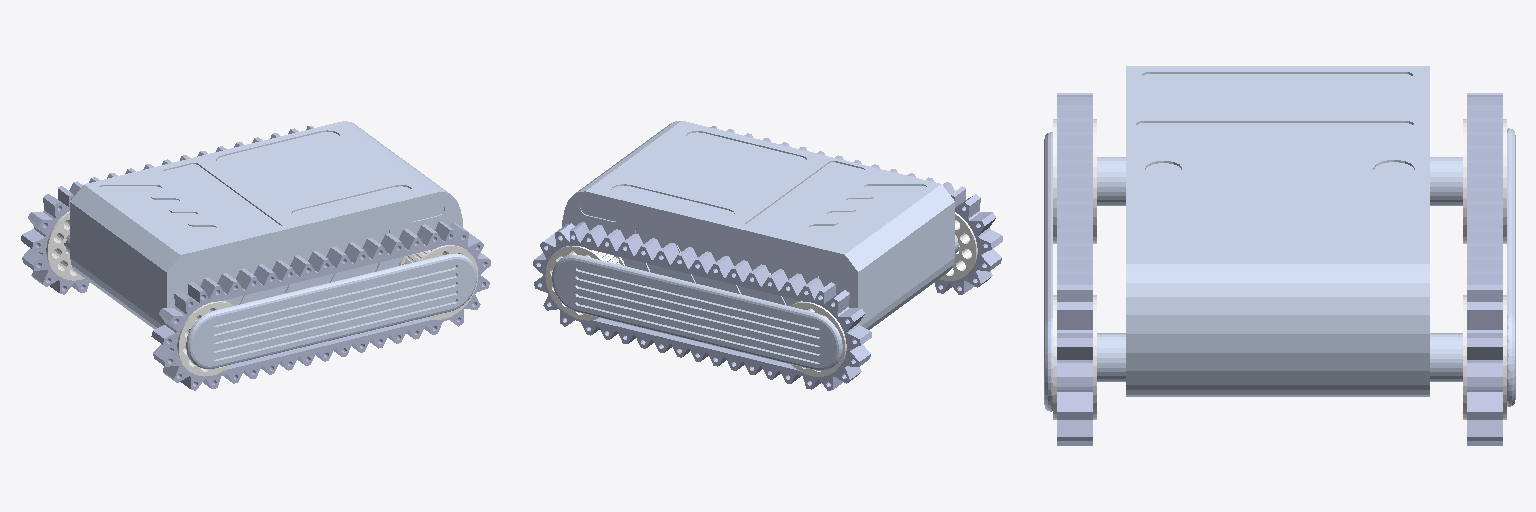
robot.urdf — test_crawler:
<?xml version="1.0" encoding="utf-8"?>
<!-- This URDF was automatically created by SolidWorks to URDF Exporter! Originally created by [author] ([email redacted]) 
     Commit Version: 1.5.1-0-g916b5db  Build Version: 1.5.7152.31018
     For more information, please see http://wiki.ros.org/sw_urdf_exporter -->
<robot
  name="test_crawler">
  <link
    name="base_link">
    <inertial>
      <origin
        xyz="-0.281319738122083 -0.0199999536533712 -0.106159055842674"
        rpy="0 0 0" />
      <mass
        value="12.7192621971354" />
      <inertia
        ixx="0.260102799764317"
        ixy="-0.000909028802490265"
        ixz="-0.0119468599271296"
        iyy="0.57529521161862"
        iyz="0.00212150730981038"
        izz="0.710489639266212" />
    </inertial>
    <visual>
      <origin
        xyz="0 0 0"
        rpy="0 0 0" />
      <geometry>
        <mesh
          filename="package://test_crawler/meshes/base_link.STL" />
      </geometry>
      <material
        name="">
        <color
          rgba="0.866666666666667 0.909803921568627 1 1" />
      </material>
    </visual>
    <collision>
      <origin
        xyz="0 0 0"
        rpy="0 0 0" />
      <geometry>
        <mesh
          filename="package://test_crawler/meshes/base_link.STL" />
      </geometry>
    </collision>
  </link>
  <link
    name="left_front_link">
    <inertial>
      <origin
        xyz="1.5691E-13 -0.022189 1.9851E-13"
        rpy="0 0 0" />
      <mass
        value="0.66982" />
      <inertia
        ixx="0.0011856"
        ixy="-1.9675E-17"
        ixz="5.9152E-18"
        iyy="0.0020612"
        iyz="-2.5304E-17"
        izz="0.0011856" />
    </inertial>
    <visual>
      <origin
        xyz="0 0 0"
        rpy="0 0 0" />
      <geometry>
        <mesh
          filename="package://test_crawler/meshes/left_front_link.STL" />
      </geometry>
      <material
        name="">
        <color
          rgba="1 1 1 0.5" />
      </material>
    </visual>
    <collision>
      <origin
        xyz="0 0 0"
        rpy="0 0 0" />
      <geometry>
        <mesh
          filename="package://test_crawler/meshes/left_front_link.STL" />
      </geometry>
    </collision>
  </link>
  <joint
    name="left_front_joint"
    type="continuous">
    <origin
      xyz="-0.043 0.275 -0.146000000000004"
      rpy="0 0 0" />
    <parent
      link="base_link" />
    <child
      link="left_front_link" />
    <axis
      xyz="0 1 0" />
  </joint>
  <link
    name="right_front_link">
    <inertial>
      <origin
        xyz="-0.010998 0.028811 0.0012827"
        rpy="0 0 0" />
      <mass
        value="0.66982" />
      <inertia
        ixx="0.0011856"
        ixy="-2.6967E-17"
        ixz="5.651E-18"
        iyy="0.0020612"
        iyz="-1.6955E-17"
        izz="0.0011856" />
    </inertial>
    <visual>
      <origin
        xyz="0 0 0"
        rpy="0 0 0" />
      <geometry>
        <mesh
          filename="package://test_crawler/meshes/right_front_link.STL" />
      </geometry>
      <material
        name="">
        <color
          rgba="1 1 1 0.5" />
      </material>
    </visual>
    <collision>
      <origin
        xyz="0 0 0"
        rpy="0 0 0" />
      <geometry>
        <mesh
          filename="package://test_crawler/meshes/right_front_link.STL" />
      </geometry>
    </collision>
  </link>
  <joint
    name="right_front_joint"
    type="continuous">
    <origin
      xyz="-0.0320015790095129 -0.277 -0.147282702389286"
      rpy="0 0 0" />
    <parent
      link="base_link" />
    <child
      link="right_front_link" />
    <axis
      xyz="0 1 0" />
  </joint>
  <link
    name="left_rare_link">
    <inertial>
      <origin
        xyz="2.0828E-13 -0.022189 1.4727E-13"
        rpy="0 0 0" />
      <mass
        value="0.66982" />
      <inertia
        ixx="0.0011856"
        ixy="-2.6335E-17"
        ixz="5.7661E-18"
        iyy="0.0020612"
        iyz="-1.8175E-17"
        izz="0.0011856" />
    </inertial>
    <visual>
      <origin
        xyz="0 0 0"
        rpy="0 0 0" />
      <geometry>
        <mesh
          filename="package://test_crawler/meshes/left_rare_link.STL" />
      </geometry>
      <material
        name="">
        <color
          rgba="1 1 1 0.5" />
      </material>
    </visual>
    <collision>
      <origin
        xyz="0 0 0"
        rpy="0 0 0" />
      <geometry>
        <mesh
          filename="package://test_crawler/meshes/left_rare_link.STL" />
      </geometry>
    </collision>
  </link>
  <joint
    name="left_rare_joint"
    type="continuous">
    <origin
      xyz="-0.553 0.275 -0.146000000000004"
      rpy="0 0 0" />
    <parent
      link="base_link" />
    <child
      link="left_rare_link" />
    <axis
      xyz="0 1 0" />
  </joint>
  <link
    name="right_rare_link">
    <inertial>
      <origin
        xyz="2.0817E-13 0.021811 1.4733E-13"
        rpy="0 0 0" />
      <mass
        value="0.66982" />
      <inertia
        ixx="0.0011856"
        ixy="-2.6202E-17"
        ixz="5.4236E-18"
        iyy="0.0020612"
        iyz="-1.8216E-17"
        izz="0.0011856" />
    </inertial>
    <visual>
      <origin
        xyz="0 0 0"
        rpy="0 0 0" />
      <geometry>
        <mesh
          filename="package://test_crawler/meshes/right_rare_link.STL" />
      </geometry>
      <material
        name="">
        <color
          rgba="1 1 1 0.5" />
      </material>
    </visual>
    <collision>
      <origin
        xyz="0 0 0"
        rpy="0 0 0" />
      <geometry>
        <mesh
          filename="package://test_crawler/meshes/right_rare_link.STL" />
      </geometry>
    </collision>
  </link>
  <joint
    name="right_rare_joint"
    type="continuous">
    <origin
      xyz="-0.553 -0.27 -0.146000000000004"
      rpy="0 0 0" />
    <parent
      link="base_link" />
    <child
      link="right_rare_link" />
    <axis
      xyz="0 1 0" />
  </joint>
  <link
    name="left_belt_link">
    <inertial>
      <origin
        xyz="-0.29873 0.253 -0.14525"
        rpy="0 0 0" />
      <mass
        value="1.4403" />
      <inertia
        ixx="0.0092555"
        ixy="-1.3285E-18"
        ixz="-1.1101E-05"
        iyy="0.077875"
        iyz="4.6759E-20"
        izz="0.069084" />
    </inertial>
    <visual>
      <origin
        xyz="0 0 0"
        rpy="0 0 0" />
      <geometry>
        <mesh
          filename="package://test_crawler/meshes/left_belt_link.STL" />
      </geometry>
      <material
        name="">
        <color
          rgba="0.79216 0.81961 0.93333 1" />
      </material>
    </visual>
    <collision>
      <origin
        xyz="0 0 0"
        rpy="0 0 0" />
      <geometry>
        <mesh
          filename="package://test_crawler/meshes/left_belt_link.STL" />
      </geometry>
    </collision>
  </link>
  <joint
    name="left_belt_joint"
    type="fixed">
    <origin
      xyz="0 0 0"
      rpy="0 0 0" />
    <parent
      link="base_link" />
    <child
      link="left_belt_link" />
    <axis
      xyz="0 0 0" />
  </joint>
  <link
    name="right_belt_link">
    <inertial>
      <origin
        xyz="-0.29873 -0.248 -0.14525"
        rpy="0 0 0" />
      <mass
        value="1.4403" />
      <inertia
        ixx="0.0092555"
        ixy="-2.5044E-19"
        ixz="-1.1101E-05"
        iyy="0.077875"
        iyz="1.9506E-21"
        izz="0.069084" />
    </inertial>
    <visual>
      <origin
        xyz="0 0 0"
        rpy="0 0 0" />
      <geometry>
        <mesh
          filename="package://test_crawler/meshes/right_belt_link.STL" />
      </geometry>
      <material
        name="">
        <color
          rgba="0.79216 0.81961 0.93333 1" />
      </material>
    </visual>
    <collision>
      <origin
        xyz="0 0 0"
        rpy="0 0 0" />
      <geometry>
        <mesh
          filename="package://test_crawler/meshes/right_belt_link.STL" />
      </geometry>
    </collision>
  </link>
  <joint
    name="right_belt_joint"
    type="fixed">
    <origin
      xyz="0 0 0"
      rpy="0 0 0" />
    <parent
      link="base_link" />
    <child
      link="right_belt_link" />
    <axis
      xyz="0 0 0" />
  </joint>
</robot>

--- What the picture shows (computed from the rendered views, not written in the file) ---
The picture shows the robot from 3 angles, left to right: view 1: azimuth 30°, elevation 25°; view 2: azimuth 150°, elevation 25°; view 3: azimuth 270°, elevation 25°; orthographic projection.
Robot: test_crawler — 7 links, 6 joints (4 continuous, 2 fixed); root link base_link; default pose: every joint at zero.
Links seen in each view (by area): view 1: base_link, right_belt_link, left_belt_link, left_rare_link, right_rare_link, right_front_link; view 2: base_link, left_belt_link, right_belt_link, right_rare_link, left_front_link, left_rare_link; view 3: base_link, left_belt_link, right_belt_link, left_front_link, right_front_link, left_rare_link, right_rare_link.
Link boxes in pixels (box(x1,y1,x2,y2)): base_link: box(64, 121, 476, 368); right_belt_link: box(151, 222, 490, 390); left_belt_link: box(21, 126, 313, 294); left_rare_link: box(46, 211, 84, 280); right_rare_link: box(177, 300, 233, 376); right_front_link: box(399, 245, 478, 319); base_link: box(552, 121, 959, 370); left_belt_link: box(533, 222, 871, 390); right_belt_link: box(710, 126, 1002, 294); right_rare_link: box(940, 212, 977, 280); left_front_link: box(545, 246, 624, 320); left_rare_link: box(791, 301, 846, 376); base_link: box(1044, 66, 1515, 411); left_belt_link: box(1467, 93, 1502, 445); right_belt_link: box(1057, 93, 1092, 445); left_front_link: box(1463, 295, 1506, 419); right_front_link: box(1053, 295, 1096, 419); left_rare_link: box(1463, 119, 1506, 243); right_rare_link: box(1053, 119, 1096, 243).
Size in the robot's own frame: 0.7256 by 0.575 by 0.2536 metres.
7 mesh visuals loaded from 7 distinct referenced files (7 binary STL).